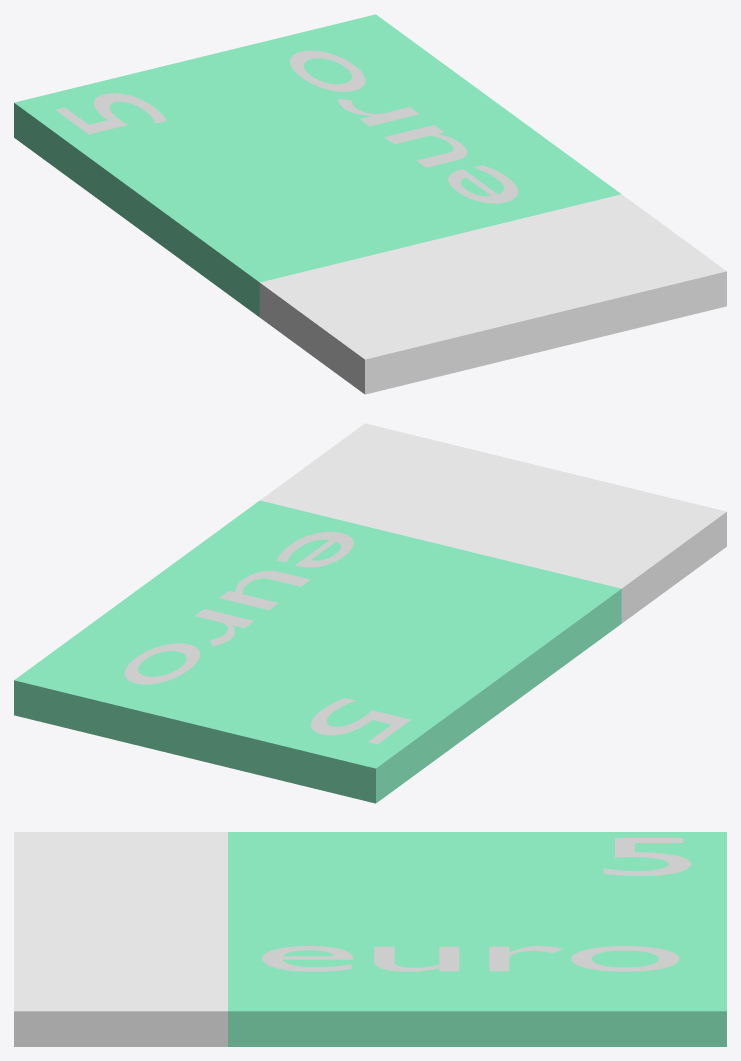
File: 5euro.gltf
3 views of the same model, one above another, from view 1: azimuth 30°, elevation 25°; view 2: azimuth 150°, elevation 25°; view 3: azimuth 270°, elevation 25° (orthographic).
Parts seen in each view (by area): view 1: Kubus.008, Tekst.001, Tekst; view 2: Kubus.008, Tekst.001, Tekst; view 3: Kubus.008, Tekst.001, Tekst.
Boxes of the visible parts, left/top/right/bottom form: Kubus.008: left=14, top=14, right=726, bottom=394; Tekst.001: left=290, top=50, right=518, bottom=203; Tekst: left=55, top=93, right=166, bottom=134; Kubus.008: left=14, top=423, right=726, bottom=803; Tekst.001: left=124, top=532, right=353, bottom=684; Tekst: left=311, top=698, right=410, bottom=744; Kubus.008: left=14, top=832, right=726, bottom=1046; Tekst.001: left=262, top=946, right=679, bottom=971; Tekst: left=603, top=838, right=690, bottom=876.
Size of the model in its own units: 1.15 by 0.1177 by 1.94.
